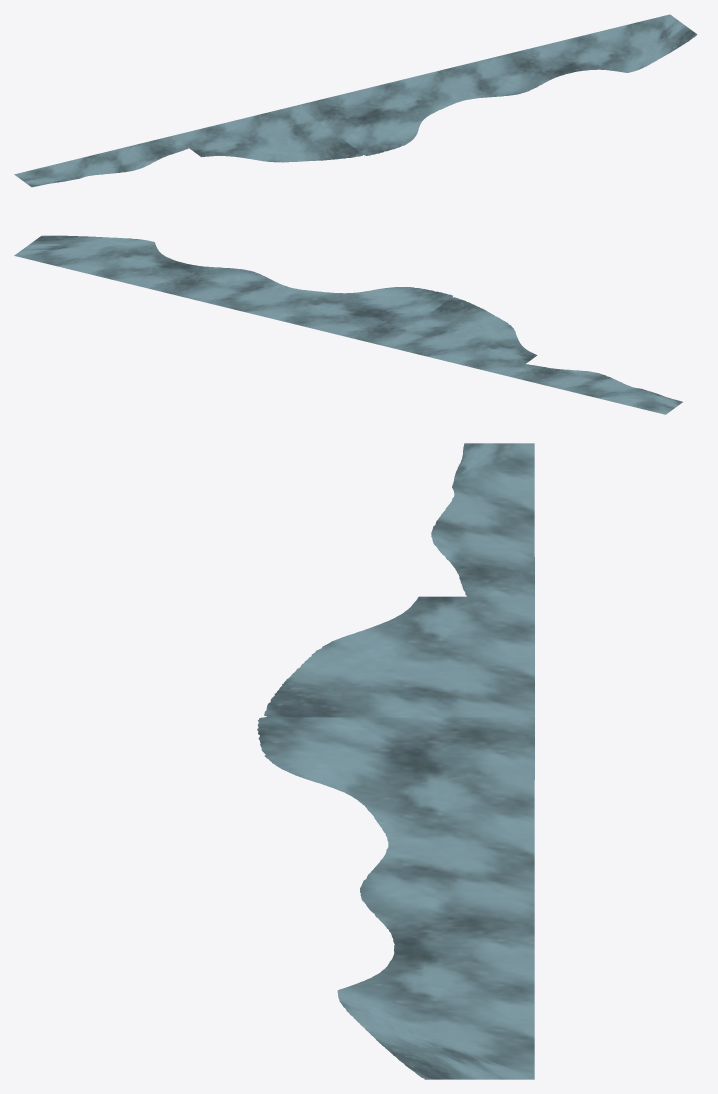
Rendered from dibiaocaoditiekuai-06.FBX.
The picture shows the model from 3 angles, top to bottom: view 1: azimuth 30°, elevation 25°; view 2: azimuth 150°, elevation 25°; view 3: azimuth 270°, elevation 25°; orthographic projection. The views are drawn at different scales.
Visible parts, largest first — view 1: Sphere002; view 2: Sphere002; view 3: Sphere002.
Part boxes in pixels (box(x1,y1,x2,y2)): Sphere002: box(14, 14, 697, 187); Sphere002: box(14, 235, 682, 414); Sphere002: box(257, 443, 534, 1079).
Size of the model in its own units: 12 by 7.94e-16 by 2.8.
